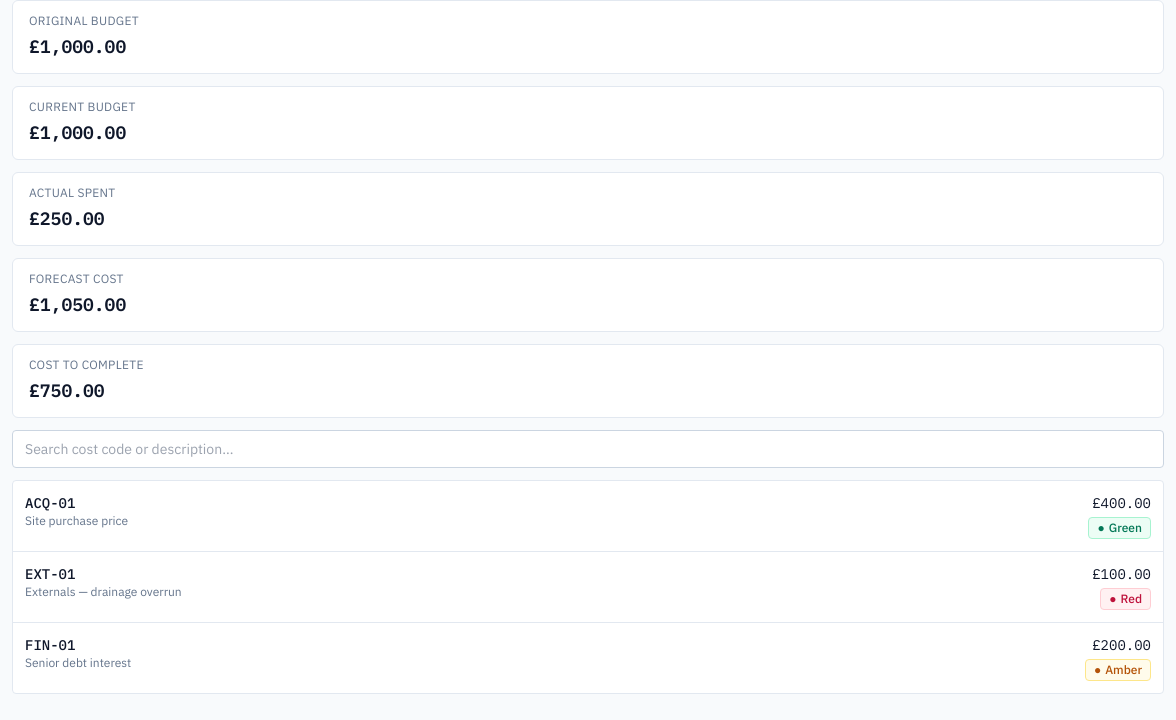
Scenario: Mobile search — case-insensitive over code + description › search by code prefix narrows the list
Step 1. Type "ext" into the search field with test id "bg2-mobile-search" → x=588, y=449, box 12,430 -> 1164,468
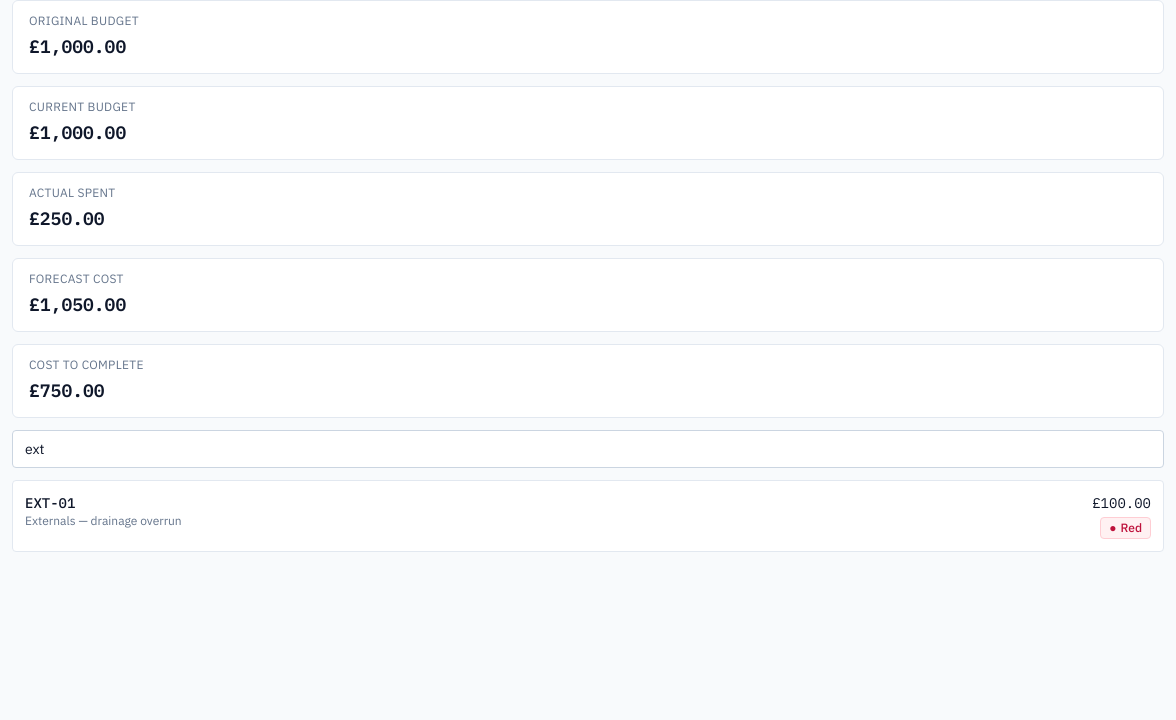
Expected: the button with test id "bg2-mobile-line-l-drainage" is shown, 13,481 -> 1163,551
Expected: the button with test id "bg2-mobile-line-l-land" is gone
Expected: the button with test id "bg2-mobile-line-l-finance" is gone
